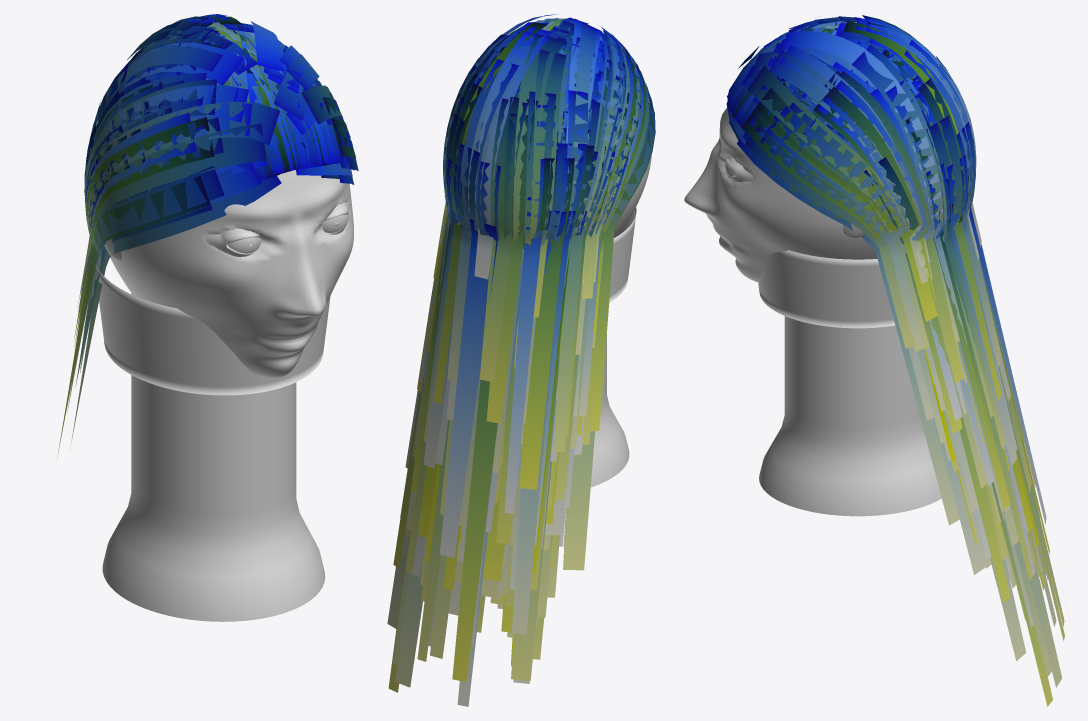
Rendered from shader_test_bust.glb.
The picture shows the model from 3 angles, left to right: view 1: azimuth 30°, elevation 25°; view 2: azimuth 150°, elevation 25°; view 3: azimuth 270°, elevation 25°; orthographic projection. The views are drawn at different scales.
Parts seen in each view (by area): view 1: Head, Hair, Collar; view 2: Hair, Head, Collar; view 3: Hair, Head, Collar.
Part boxes in pixels (<box>): Head: <box>102,170,353,621</box>; Hair: <box>57,14,358,458</box>; Collar: <box>95,265,330,395</box>; Hair: <box>387,14,655,706</box>; Head: <box>590,155,651,487</box>; Collar: <box>609,206,636,302</box>; Hair: <box>726,15,1064,706</box>; Head: <box>684,107,941,516</box>; Collar: <box>758,250,895,328</box>.
Size of the model in its own units: 0.1676 by 0.5399 by 0.2926.
